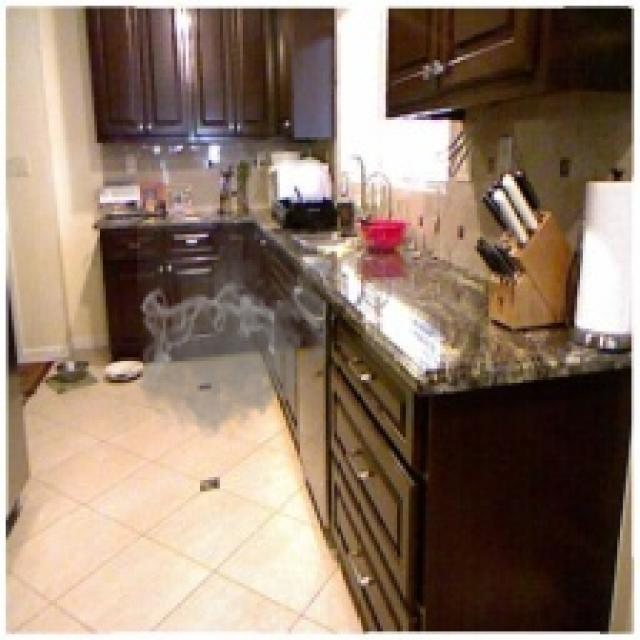smoke: (134, 220, 340, 449)
